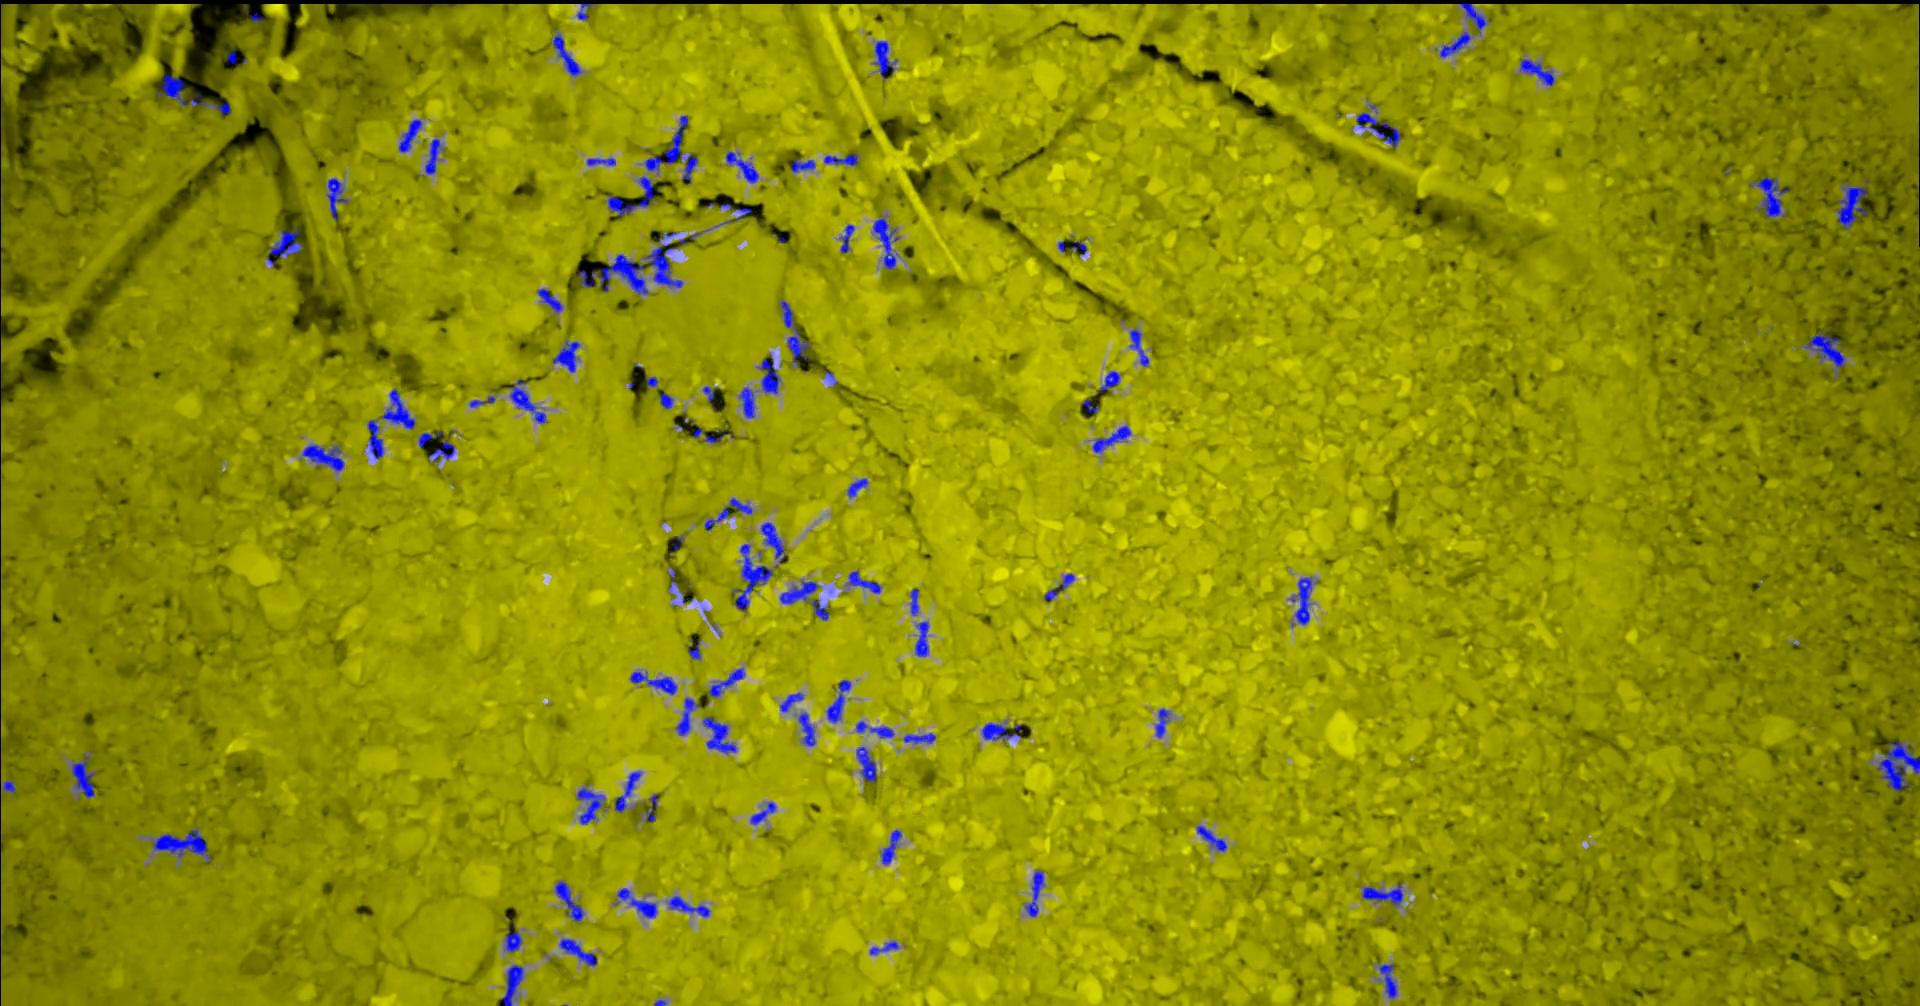ant: (577, 254, 648, 293), (731, 542, 772, 610), (644, 116, 687, 171), (778, 579, 829, 620), (780, 300, 810, 365), (607, 177, 654, 218), (1802, 330, 1845, 373), (152, 829, 210, 861), (644, 243, 683, 287), (1749, 177, 1790, 217), (1355, 112, 1401, 147), (509, 379, 545, 423), (1836, 178, 1867, 229), (265, 227, 302, 265), (381, 387, 414, 429), (872, 216, 898, 269), (552, 30, 582, 76), (702, 716, 737, 753), (616, 887, 657, 917), (554, 880, 583, 921), (301, 443, 343, 471), (759, 522, 786, 563), (709, 667, 744, 697), (615, 771, 641, 812), (497, 964, 523, 1005), (629, 671, 676, 694), (1092, 426, 1130, 453), (577, 786, 604, 824), (825, 680, 850, 723), (559, 937, 596, 965), (1289, 577, 1310, 624), (71, 754, 95, 796), (725, 151, 758, 182), (1519, 58, 1554, 86), (665, 895, 710, 917), (1023, 870, 1044, 916), (156, 74, 185, 105), (872, 39, 897, 77), (1361, 883, 1403, 904), (551, 340, 579, 372), (757, 354, 780, 392), (676, 697, 698, 735), (1044, 573, 1074, 601), (1439, 30, 1470, 57), (397, 118, 422, 152), (189, 93, 230, 113), (326, 178, 347, 218), (1459, 3, 1486, 33), (844, 570, 880, 593), (855, 746, 876, 781), (982, 721, 1021, 741), (1196, 826, 1225, 851), (880, 829, 902, 864), (1129, 328, 1148, 366), (424, 138, 444, 173), (1378, 963, 1397, 998), (367, 419, 383, 459), (536, 288, 563, 312), (855, 720, 893, 737), (703, 506, 729, 530), (717, 207, 752, 225), (428, 439, 455, 462), (797, 713, 815, 746), (750, 801, 775, 824), (503, 923, 522, 951), (738, 386, 754, 417), (914, 620, 928, 655), (681, 154, 697, 183), (838, 224, 855, 251), (778, 692, 803, 711), (1098, 370, 1119, 391), (823, 152, 857, 165), (728, 497, 752, 514), (418, 431, 443, 447), (1156, 708, 1170, 737), (869, 940, 898, 954), (787, 158, 815, 171), (847, 478, 867, 497), (703, 429, 733, 442), (903, 732, 935, 743), (645, 793, 658, 821), (469, 395, 494, 406), (687, 638, 700, 659), (577, 3, 593, 19), (909, 588, 918, 615), (1070, 240, 1086, 255), (658, 392, 673, 408), (1082, 399, 1098, 413), (585, 158, 615, 165), (0, 779, 15, 793), (702, 386, 714, 401), (670, 536, 683, 549)
